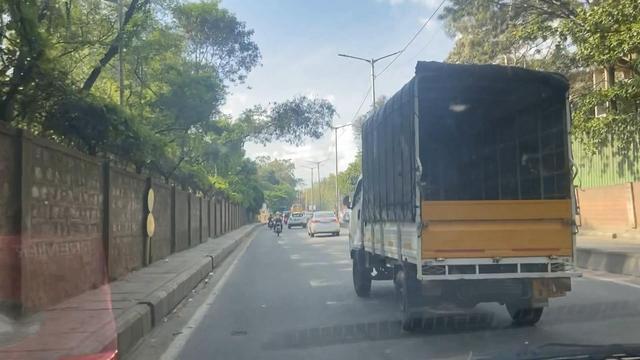HMV: (344, 63, 573, 334)
